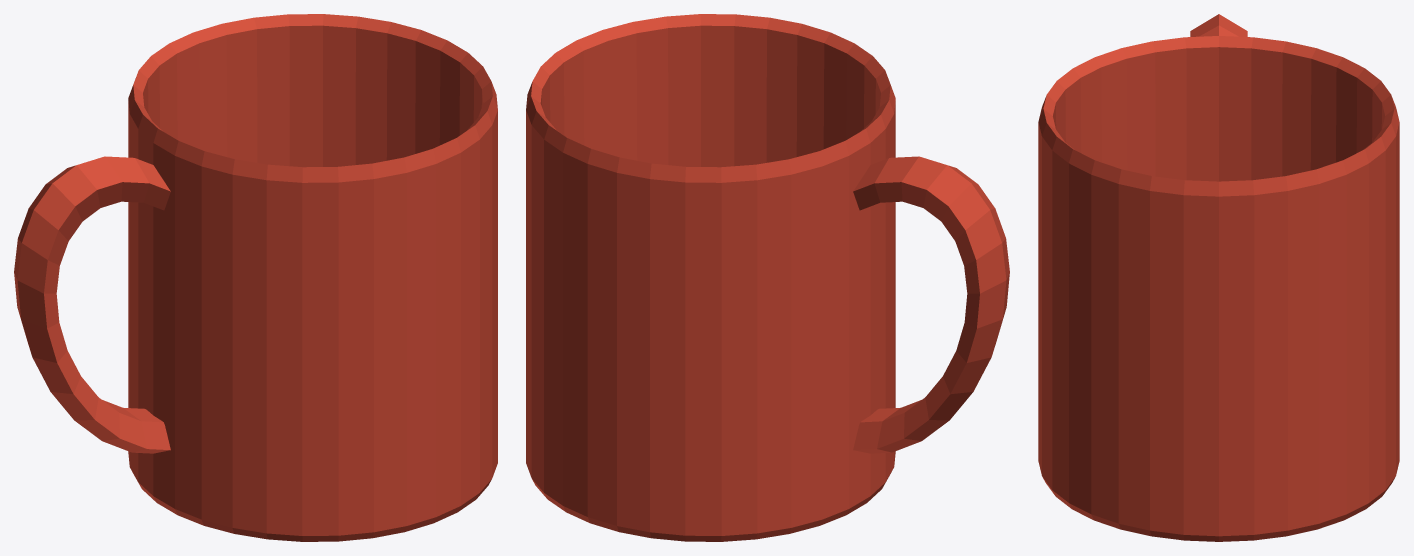
File: coffee-mug-for-scale.dae
3 views of the same model, side by side, from view 1: azimuth 30°, elevation 25°; view 2: azimuth 150°, elevation 25°; view 3: azimuth 270°, elevation 25° (orthographic). The views are drawn at different scales.
Parts seen in each view (by area): view 1: Cylinder; view 2: Cylinder; view 3: Cylinder.
Boxes of the visible parts, x1=… form: Cylinder: x1=14, y1=14, x2=497, y2=541; Cylinder: x1=526, y1=14, x2=1009, y2=541; Cylinder: x1=1038, y1=14, x2=1399, y2=541.
Bounding box in the file's own units: 0.14 × 0.1 × 0.11.
